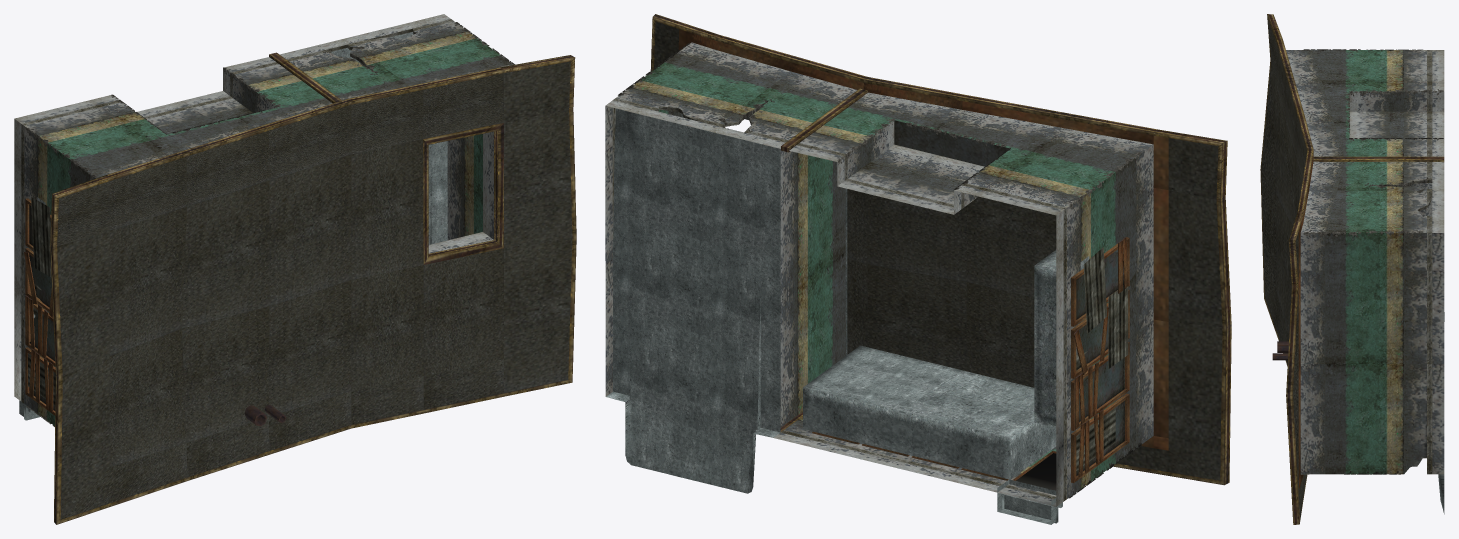
File: gasstation.obj
The picture shows the model from 3 angles, left to right: view 1: azimuth 30°, elevation 25°; view 2: azimuth 150°, elevation 25°; view 3: azimuth 270°, elevation 25°; orthographic projection. The views are drawn at different scales.
Visible parts, largest first — view 1: NoVac_GasStationANV:0, NoVac_GasStationANV:1, NoVac_GasStationANV:2, NoVac_GasStationANV:3; view 2: NoVac_GasStationANV:0, NoVac_GasStationANV:1, NoVac_GasStationANV:2, NoVac_GasStationANV:3; view 3: NoVac_GasStationANV:0, NoVac_GasStationANV:3.
Boxes of the visible parts, box(x1,y1,x2,y2) form: NoVac_GasStationANV:0: box(14, 14, 576, 524); NoVac_GasStationANV:1: box(19, 32, 447, 420); NoVac_GasStationANV:2: box(28, 197, 55, 405); NoVac_GasStationANV:3: box(26, 22, 514, 426); NoVac_GasStationANV:0: box(605, 14, 1231, 506); NoVac_GasStationANV:1: box(606, 108, 1123, 524); NoVac_GasStationANV:2: box(1076, 247, 1128, 470); NoVac_GasStationANV:3: box(618, 42, 1141, 498); NoVac_GasStationANV:0: box(1260, 14, 1444, 524); NoVac_GasStationANV:3: box(1303, 49, 1443, 474).
Size of what is drawn, in the model's own units: 1161 by 726 by 399.
